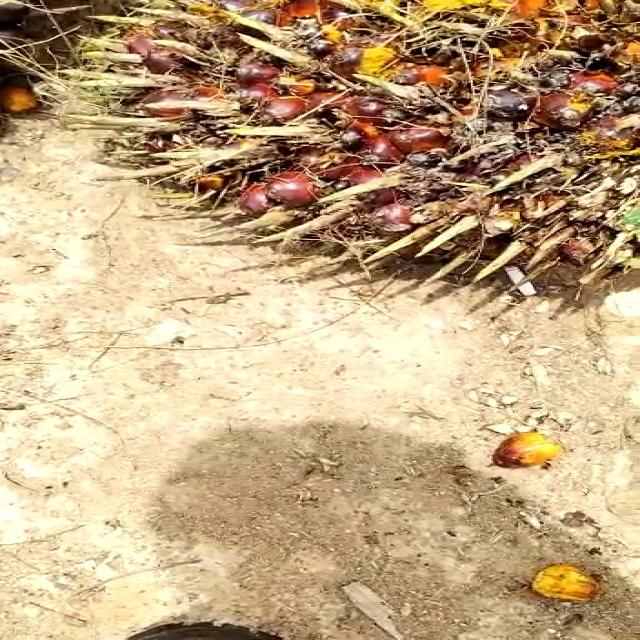palm oil: (69, 0, 638, 321)
